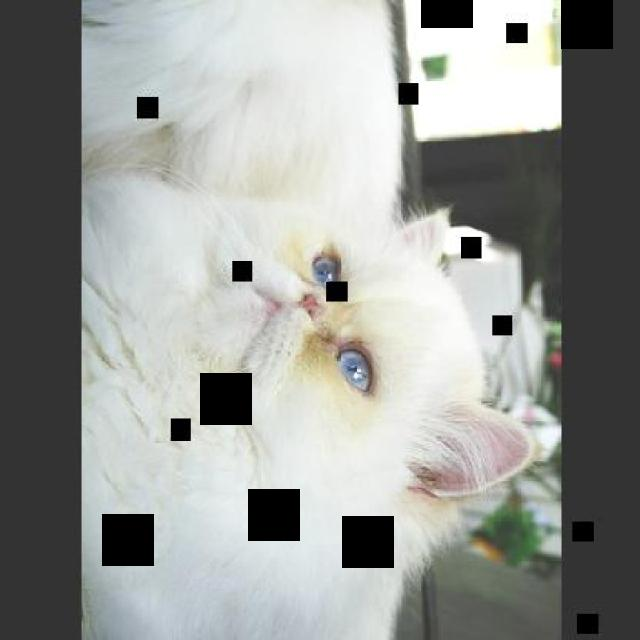unauthorized: (78, 0, 541, 638)
